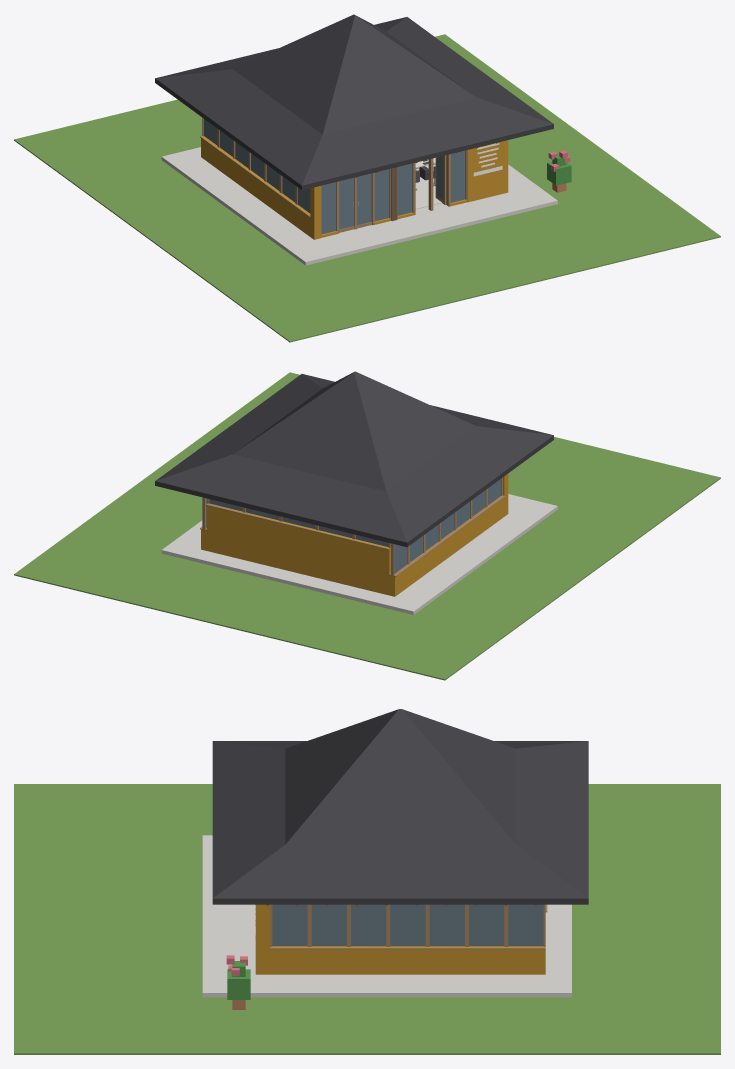
Rendered from sala_sistemas1.glb.
3 views of the same model, one above another, from view 1: azimuth 30°, elevation 25°; view 2: azimuth 150°, elevation 25°; view 3: azimuth 270°, elevation 25° (orthographic). The views are drawn at different scales.
Parts seen in each view (by area): view 1: Sala de sistemas 1; view 2: Sala de sistemas 1; view 3: Sala de sistemas 1.
Part boxes in pixels (<box>): Sala de sistemas 1: <box>14,14,720,342</box>; Sala de sistemas 1: <box>14,371,720,680</box>; Sala de sistemas 1: <box>14,709,720,1054</box>.
Size of the model in its own units: 19.27 by 7.04 by 21.36.
